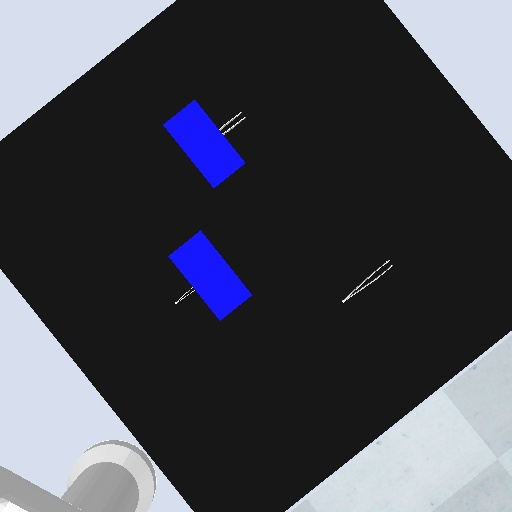pinza: (338, 257, 395, 307), (216, 109, 250, 137), (172, 285, 197, 308)
